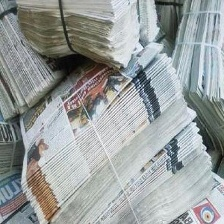news_paper: (9, 52, 220, 224), (15, 0, 161, 72), (162, 0, 224, 158), (0, 0, 71, 123), (157, 162, 223, 224), (0, 164, 51, 223), (0, 108, 32, 172)
